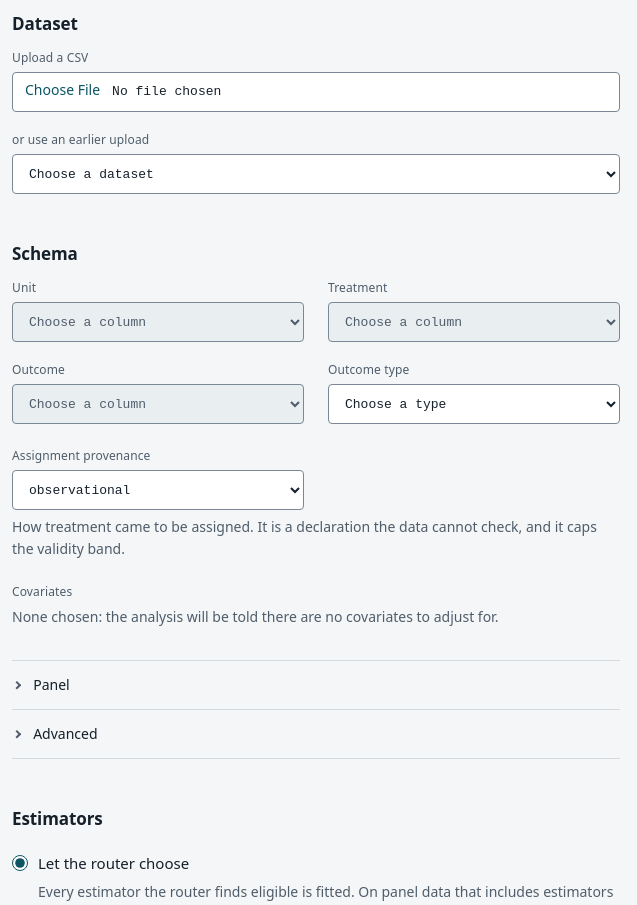
Scenario: the earlier-upload select › clears an earlier alert as soon as the next pick starts, not when it finishes
The image size is (637, 905).
Select "a.csv (1 KB)" in the dropdown labelled "or use an earlier upload" at (316, 174), box [12,154,620,194]
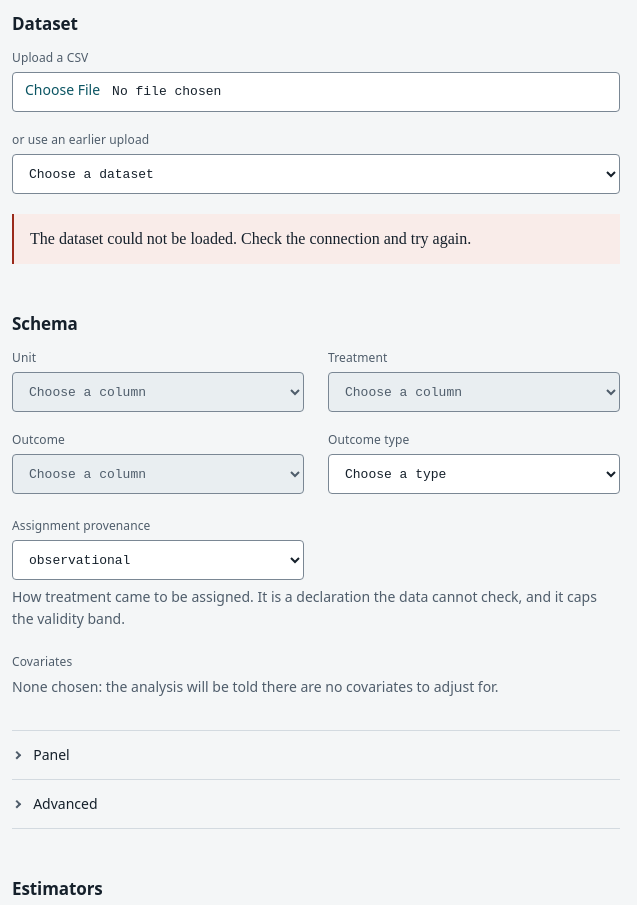
Result: the text "The dataset could not be loaded. Check the connection and try again." is shown at [12,214,620,264]
Select "b.csv (1 KB)" in the dropdown labelled "or use an earlier upload" at (316, 174), box [12,154,620,194]
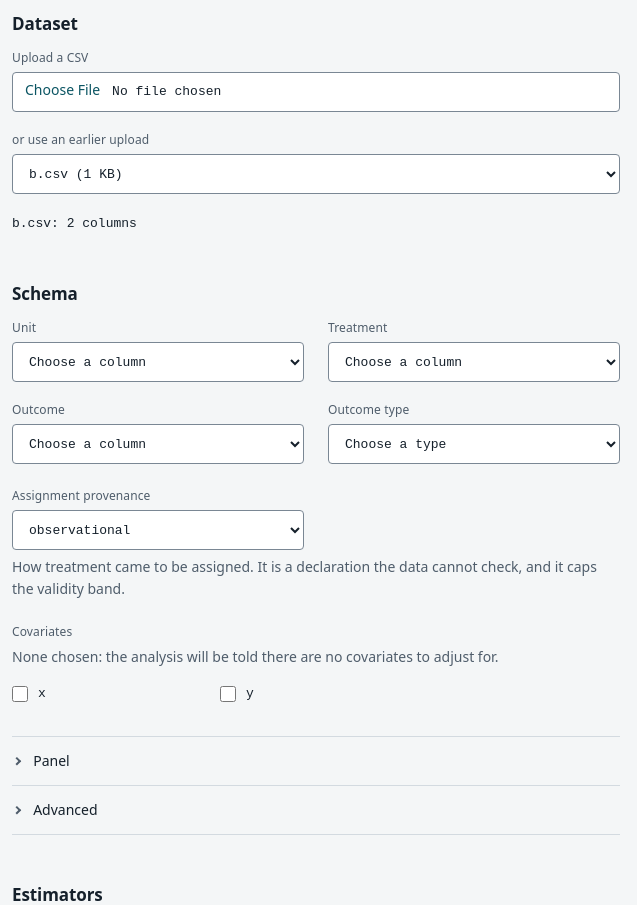
Result: the text "could not be loaded" is gone
Result: the text "b.csv: 2 columns" is shown at [12,216,137,231]
